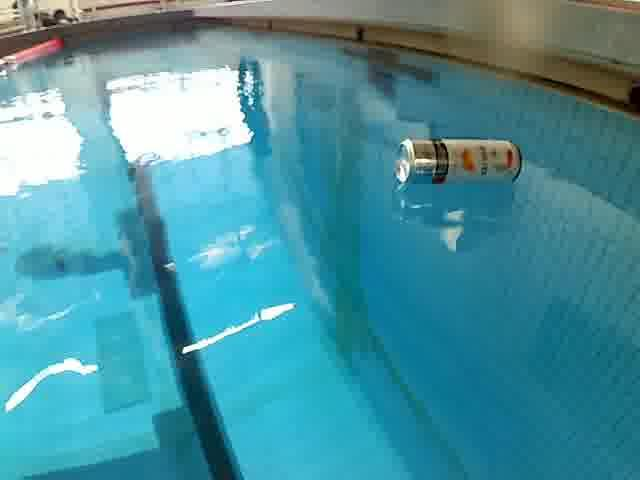Can: (393, 134, 529, 191)
